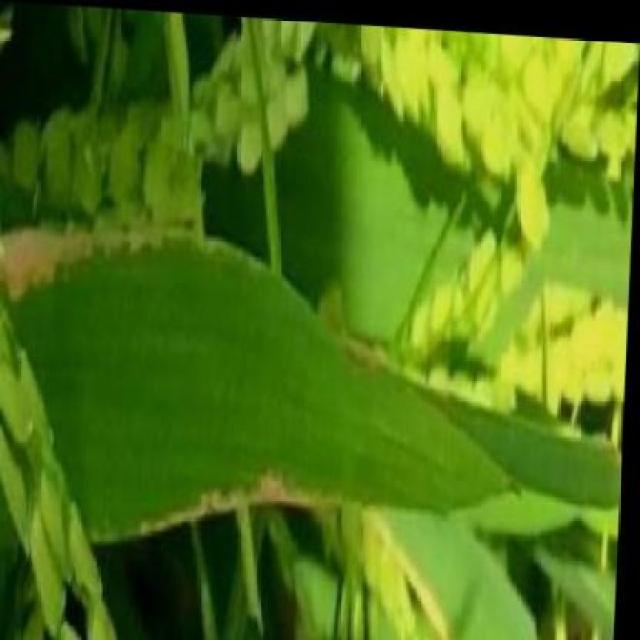Brown_Spot: (5, 290, 623, 538)
